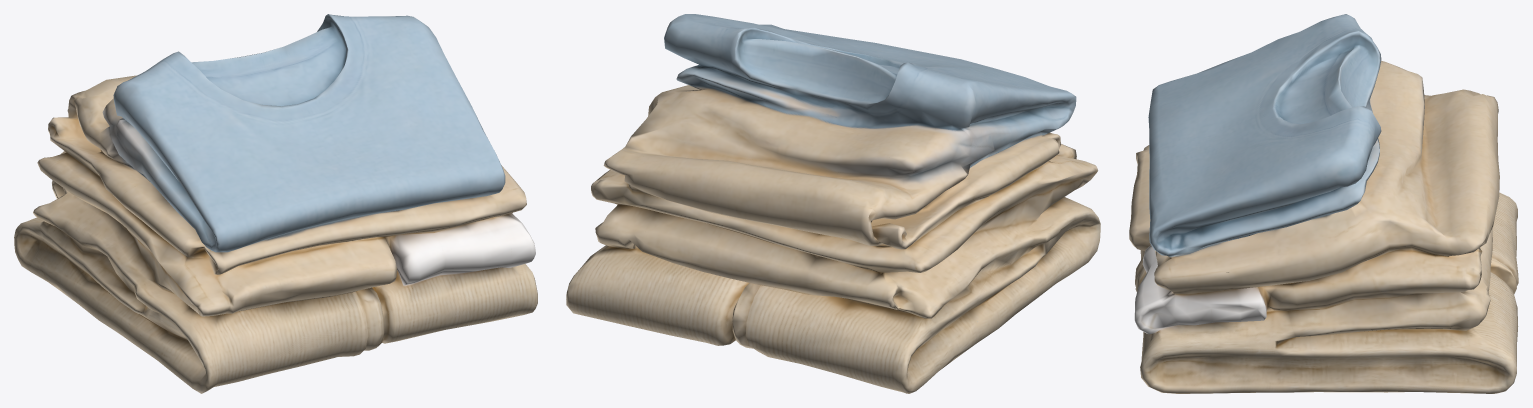
Rendered from clothes2.fbx.
The picture shows the model from 3 angles, left to right: view 1: azimuth 30°, elevation 25°; view 2: azimuth 150°, elevation 25°; view 3: azimuth 270°, elevation 25°; orthographic projection. The views are drawn at different scales.
Visible parts, largest first — view 1: geometry_0; view 2: geometry_0; view 3: geometry_0.
Part boxes in pixels (x1=…): geometry_0: x1=14, y1=14, x2=537, y2=393; geometry_0: x1=566, y1=14, x2=1100, y2=393; geometry_0: x1=1129, y1=14, x2=1518, y2=393.
Size of the model in its own units: 100 by 69.65 by 99.79.
Materials: 1 (1 with a texture image).
